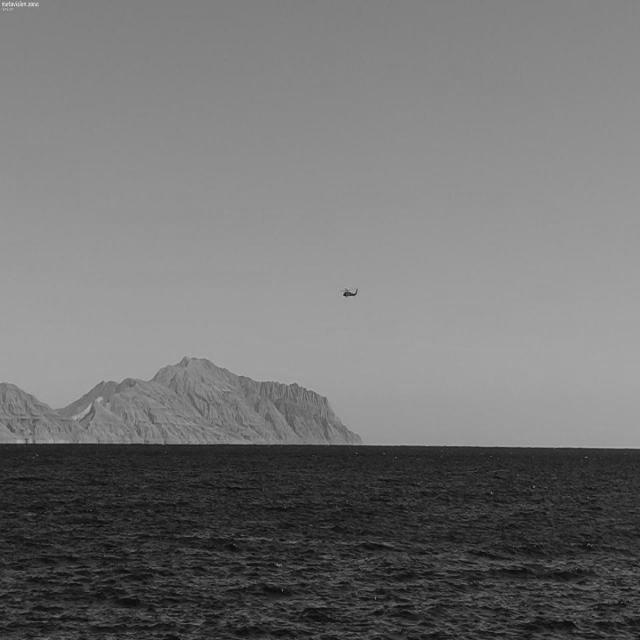helikopter: (325, 270, 384, 326)
